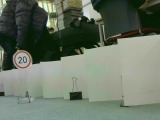speed_20: (10, 49, 34, 71)
